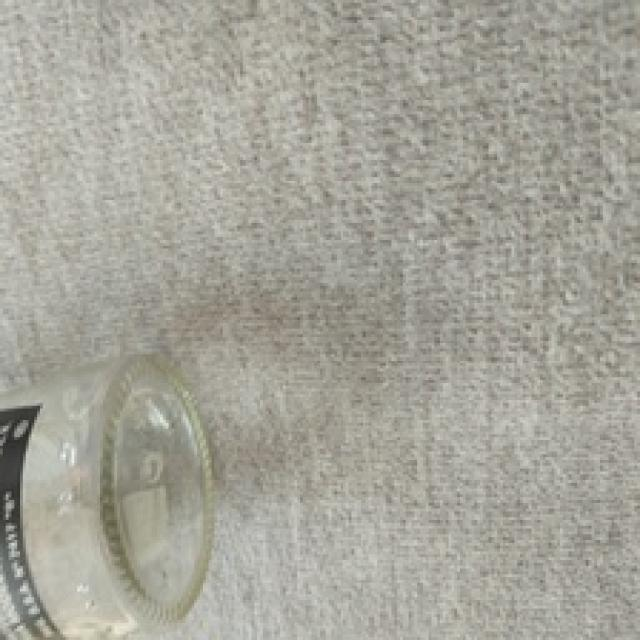Glass: (0, 351, 219, 640)
